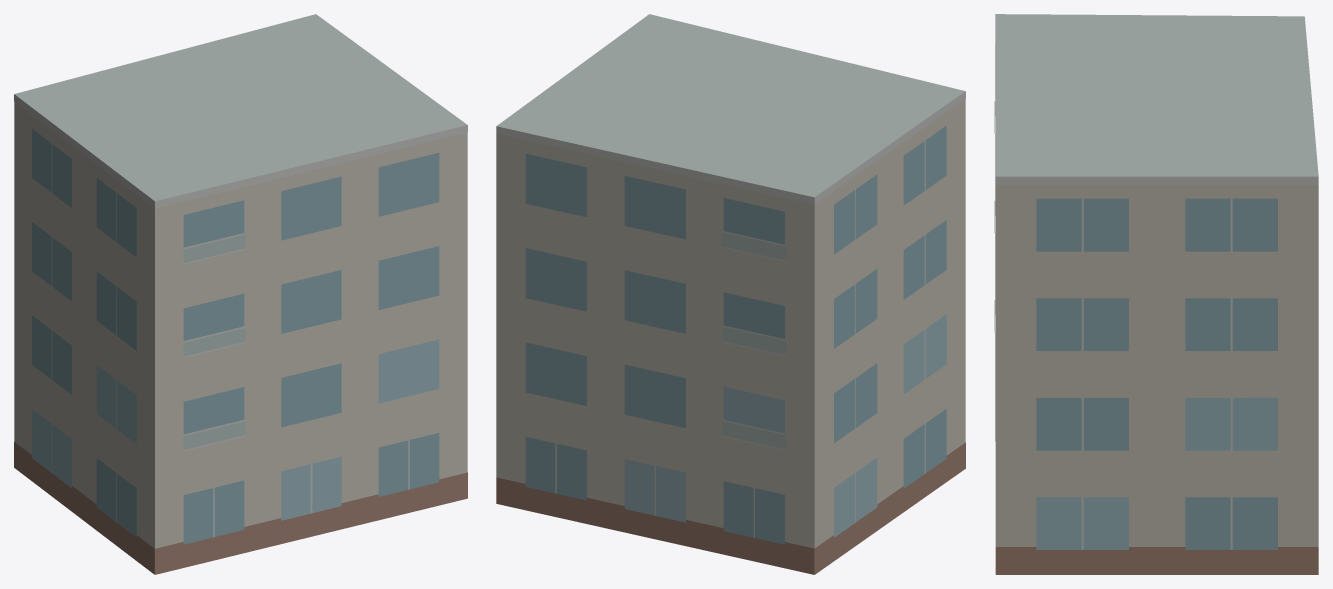
Rendered from survey-upis-32898215.glb.
3 views of the same model, side by side, from view 1: azimuth 30°, elevation 25°; view 2: azimuth 150°, elevation 25°; view 3: azimuth 270°, elevation 25° (orthographic). The views are drawn at different scales.
Visible parts, largest first — view 1: survey-upis-32898215.tmp; view 2: survey-upis-32898215.tmp; view 3: survey-upis-32898215.tmp.
Part boxes in pixels (<box>): survey-upis-32898215.tmp: <box>14,14,467,574</box>; survey-upis-32898215.tmp: <box>496,14,965,574</box>; survey-upis-32898215.tmp: <box>994,14,1318,574</box>.
Bounding box in the file's own units: 10.78 × 12.28 × 9.08.
